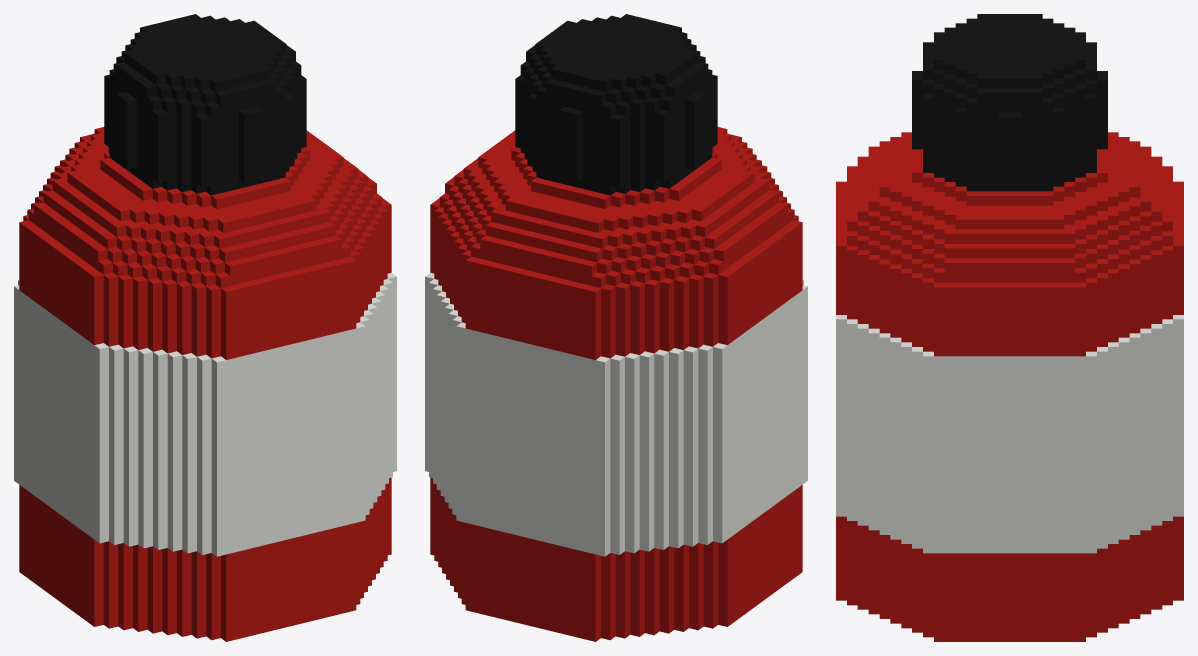
The model's file is rubber_cement.glb.
The picture shows the model from 3 angles, left to right: view 1: azimuth 30°, elevation 25°; view 2: azimuth 150°, elevation 25°; view 3: azimuth 270°, elevation 25°; orthographic projection.
Visible parts, largest first — view 1: rubber_cement:compound; view 2: rubber_cement:compound; view 3: rubber_cement:compound.
Boxes of the visible parts, bbox=[...] form: rubber_cement:compound: bbox=[14, 14, 396, 641]; rubber_cement:compound: bbox=[425, 14, 807, 641]; rubber_cement:compound: bbox=[836, 14, 1183, 641].
Size of the model in its own units: 0.064 by 0.106 by 0.064.
